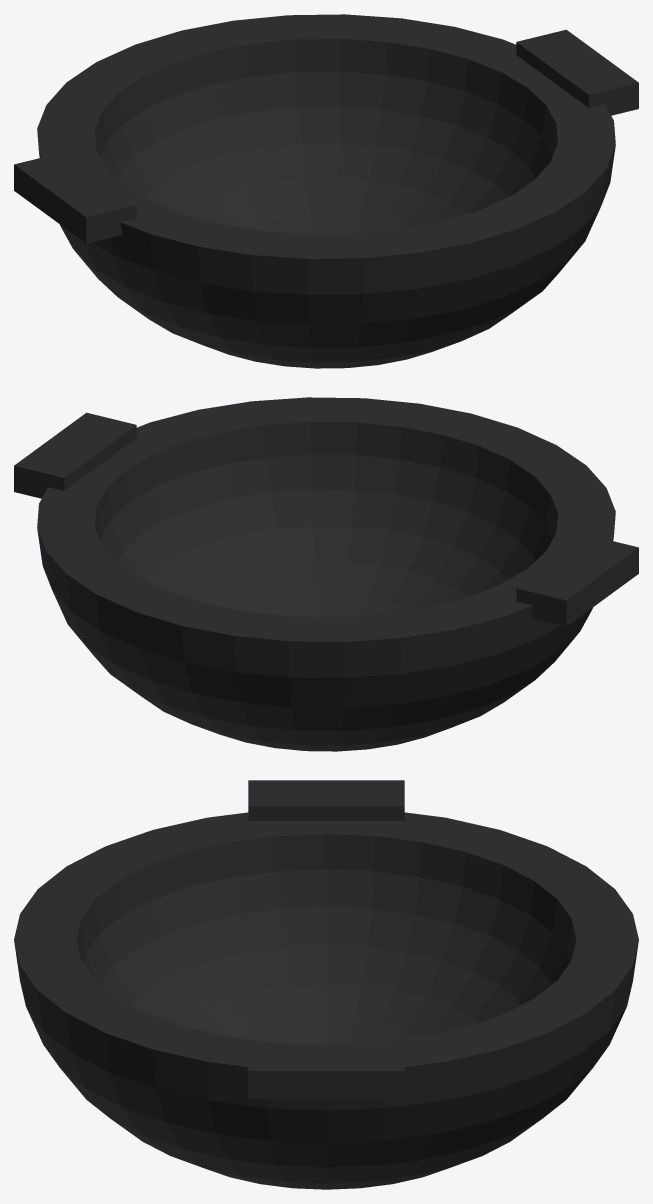
File: wok.gltf
The picture shows the model from 3 angles, top to bottom: view 1: azimuth 30°, elevation 25°; view 2: azimuth 150°, elevation 25°; view 3: azimuth 270°, elevation 25°; orthographic projection. The views are drawn at different scales.
Parts seen in each view (by area): view 1: 立方体; view 2: 立方体; view 3: 立方体.
Boxes of the visible parts, x1,y1,x2,y2 form: 立方体: (14,14,638,368); 立方体: (14,397,638,751); 立方体: (14,780,638,1189).
Bounding box in the file's own units: 2.2 × 0.8 × 2.
1 material, 1 textured.
